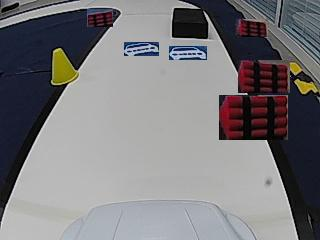block: (172, 8, 208, 39)
cone: (51, 50, 78, 85)
